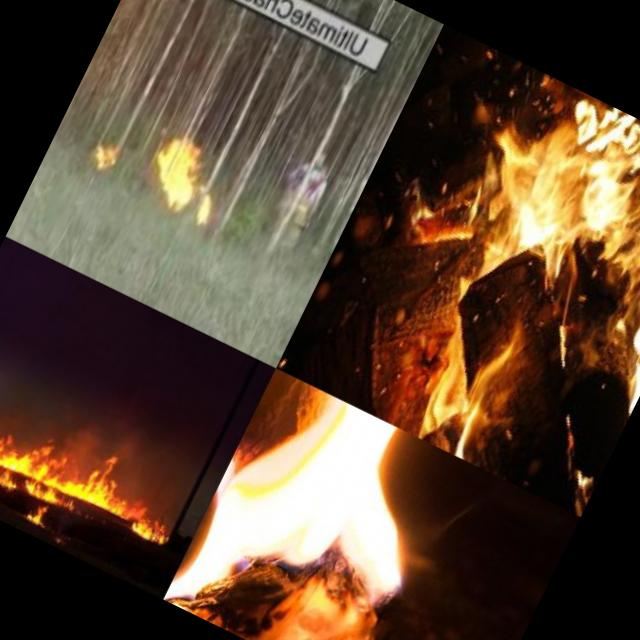fire: (362, 65, 640, 510), (162, 367, 475, 640), (0, 366, 189, 583), (136, 130, 240, 230), (79, 120, 144, 192)
